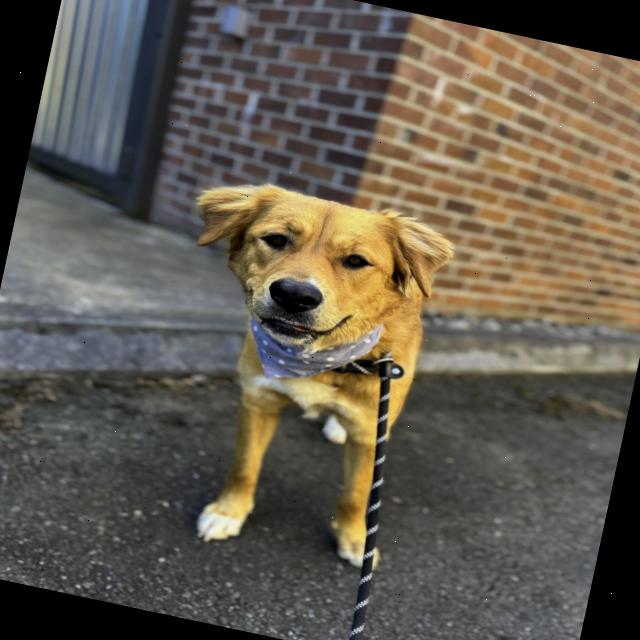golden_retriever_dog: (148, 160, 472, 397)
